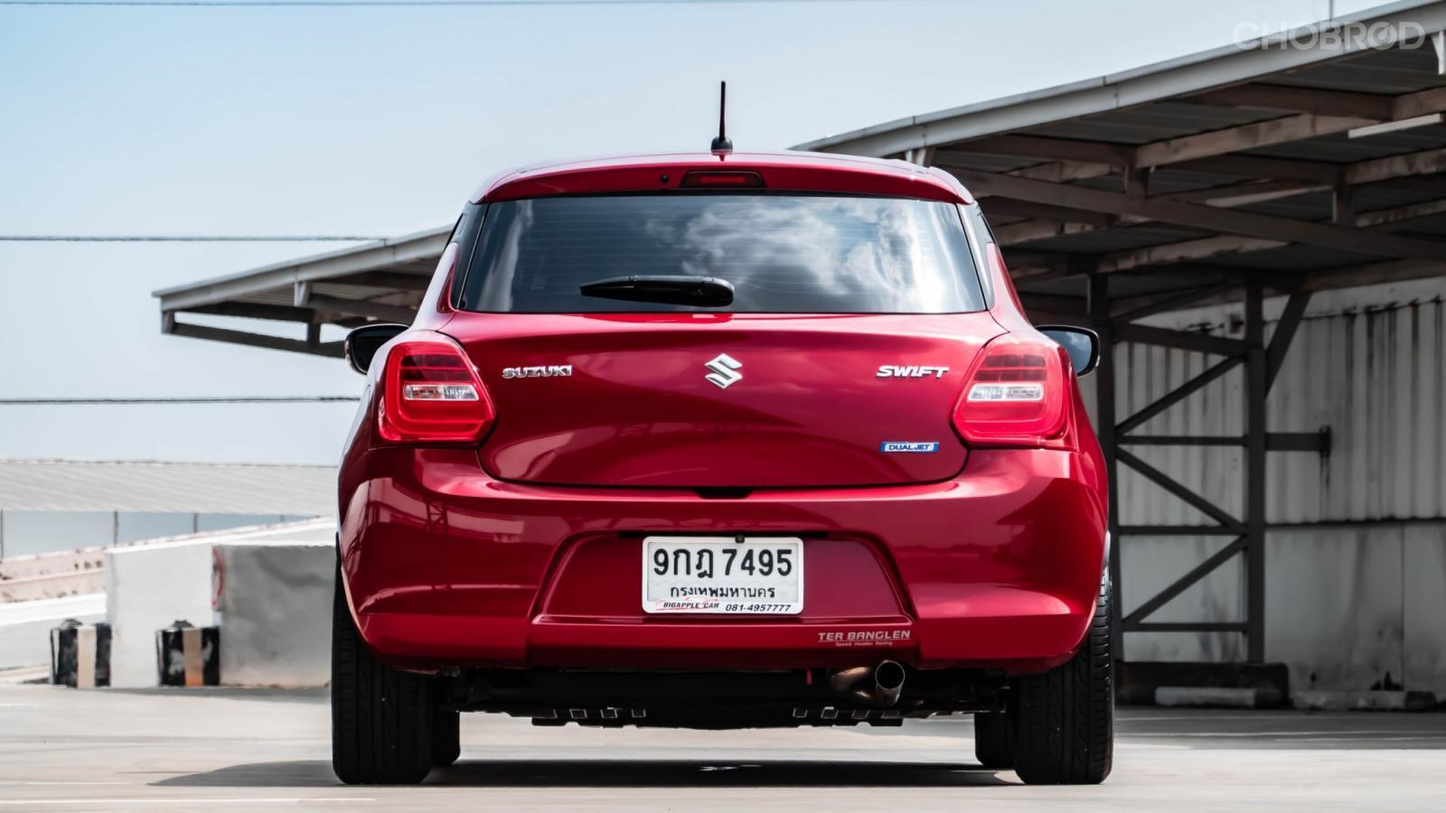license-plate: (642, 528, 803, 621)
